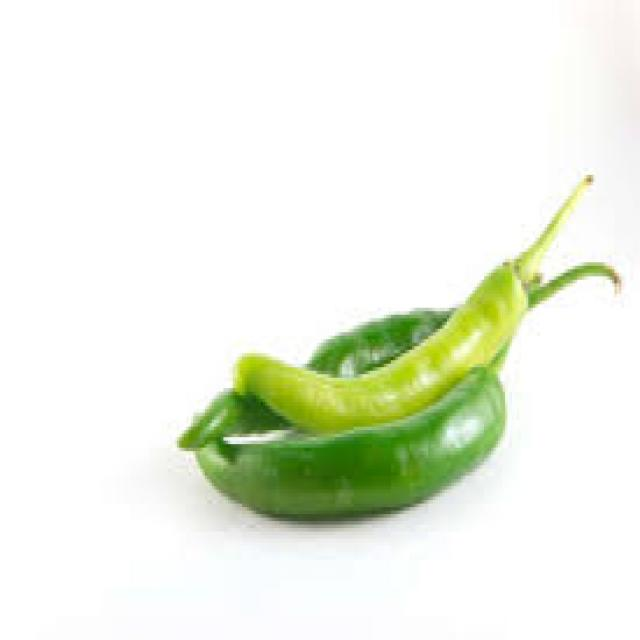green chilli: (237, 180, 587, 431), (194, 333, 521, 517)
